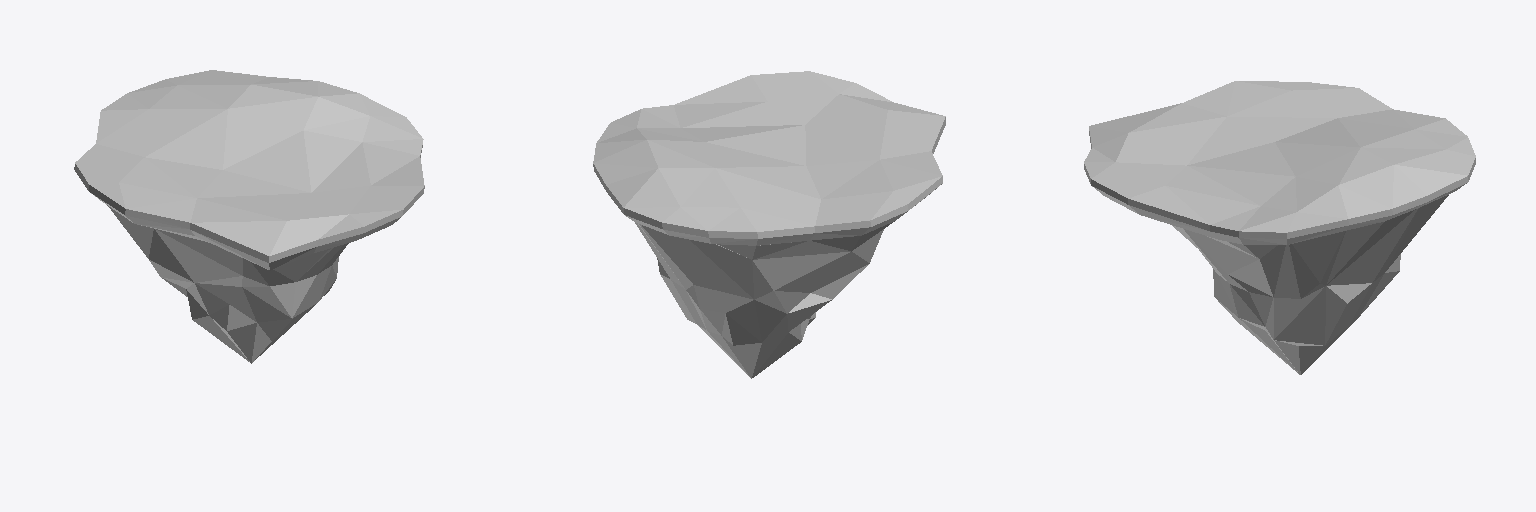
File: world-desert-organic-obj.obj
The picture shows the model from 3 angles: view 1: azimuth 30°, elevation 25°; view 2: azimuth 150°, elevation 25°; view 3: azimuth 270°, elevation 25°; orthographic projection.
Visible parts, largest first — view 1: Island_Grass.016; view 2: Island_Grass.016; view 3: Island_Grass.016.
Part boxes in pixels (x1,y1,x2,y2): Island_Grass.016: (74, 70, 424, 363); Island_Grass.016: (593, 71, 945, 378); Island_Grass.016: (1084, 81, 1475, 374).
Bounding box in the file's own units: 21.6 × 15.66 × 23.82.